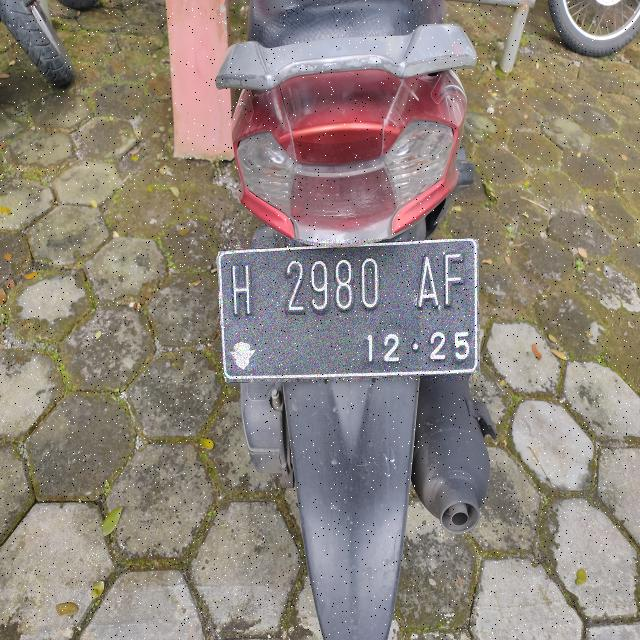plate: (218, 240, 478, 382)
